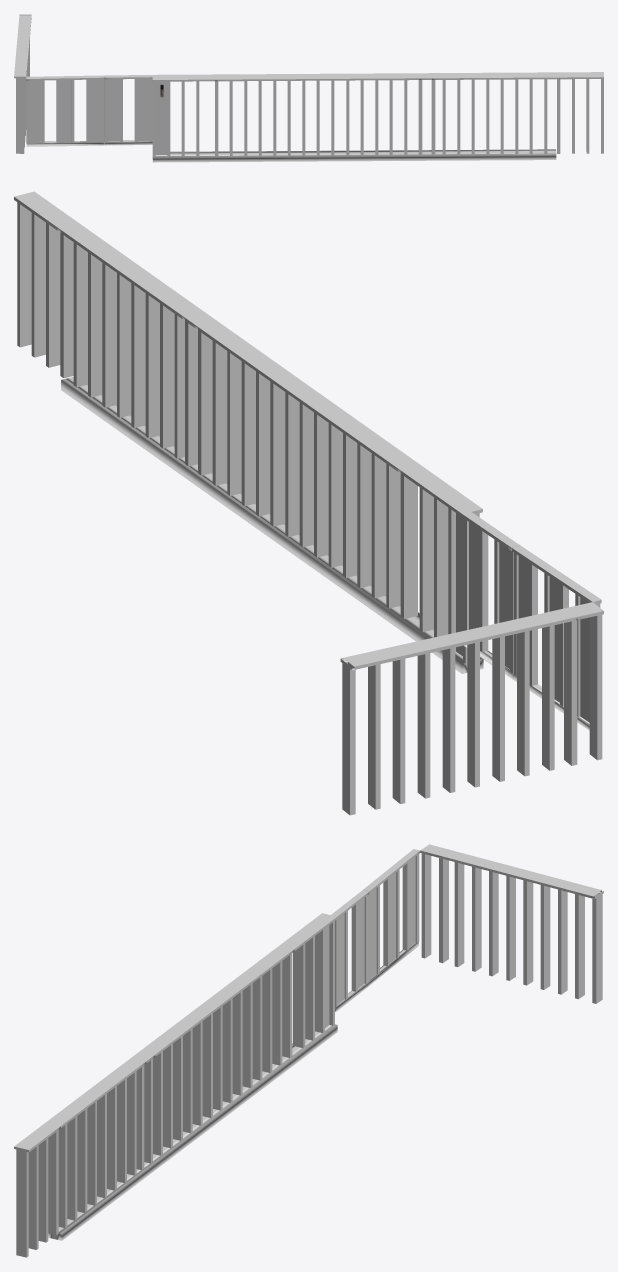
The model's file is new_F2_fences.fbx.
3 views of the same model, one above another, from view 1: azimuth 30°, elevation 25°; view 2: azimuth 150°, elevation 25°; view 3: azimuth 270°, elevation 25° (orthographic). The views are drawn at different scales.
Parts seen in each view (by area): view 1: pCube1917, pCube1920, pCube82, pCube1919, pCube1921, pCube81, pCube83, pCube272, pCube77, pCube1918; view 2: pCube1919, pCube272, pCube82, pCube1917, pCube81, pCube83, pCube1920, pCube1921, pCube77, pCube1918; view 3: pCube272, pCube1919, pCube82, pCube1917, pCube81, pCube83, pCube1920, pCube1921, pCube77, pCube1918.
Part boxes in pixels (x1,y1,x2,y2): pCube1917: [152, 74, 556, 162]; pCube1920: [26, 75, 104, 146]; pCube82: [431, 72, 558, 154]; pCube1919: [215, 73, 346, 155]; pCube1921: [104, 75, 152, 145]; pCube81: [346, 73, 418, 155]; pCube83: [557, 72, 603, 153]; pCube272: [14, 14, 31, 141]; pCube77: [14, 69, 26, 153]; pCube1918: [418, 73, 431, 154]; pCube1919: [269, 373, 420, 618]; pCube272: [340, 609, 576, 815]; pCube82: [59, 223, 204, 466]; pCube1917: [61, 377, 483, 673]; pCube81: [198, 322, 290, 526]; pCube83: [14, 191, 80, 378]; pCube1920: [512, 546, 601, 730]; pCube1921: [462, 512, 520, 679]; pCube77: [563, 602, 603, 765]; pCube1918: [185, 312, 217, 475]; pCube272: [441, 850, 603, 1003]; pCube1919: [190, 945, 294, 1117]; pCube82: [46, 1057, 146, 1228]; pCube1917: [48, 913, 337, 1240]; pCube81: [141, 1013, 204, 1155]; pCube83: [14, 1122, 60, 1257]; pCube1920: [363, 849, 420, 986]; pCube1921: [331, 890, 369, 1011]; pCube77: [420, 844, 449, 963]; pCube1918: [132, 1051, 155, 1163].
Bounding box in the file's own units: 36.89 × 6.49 × 30.08.
2 materials, 1 textured.
